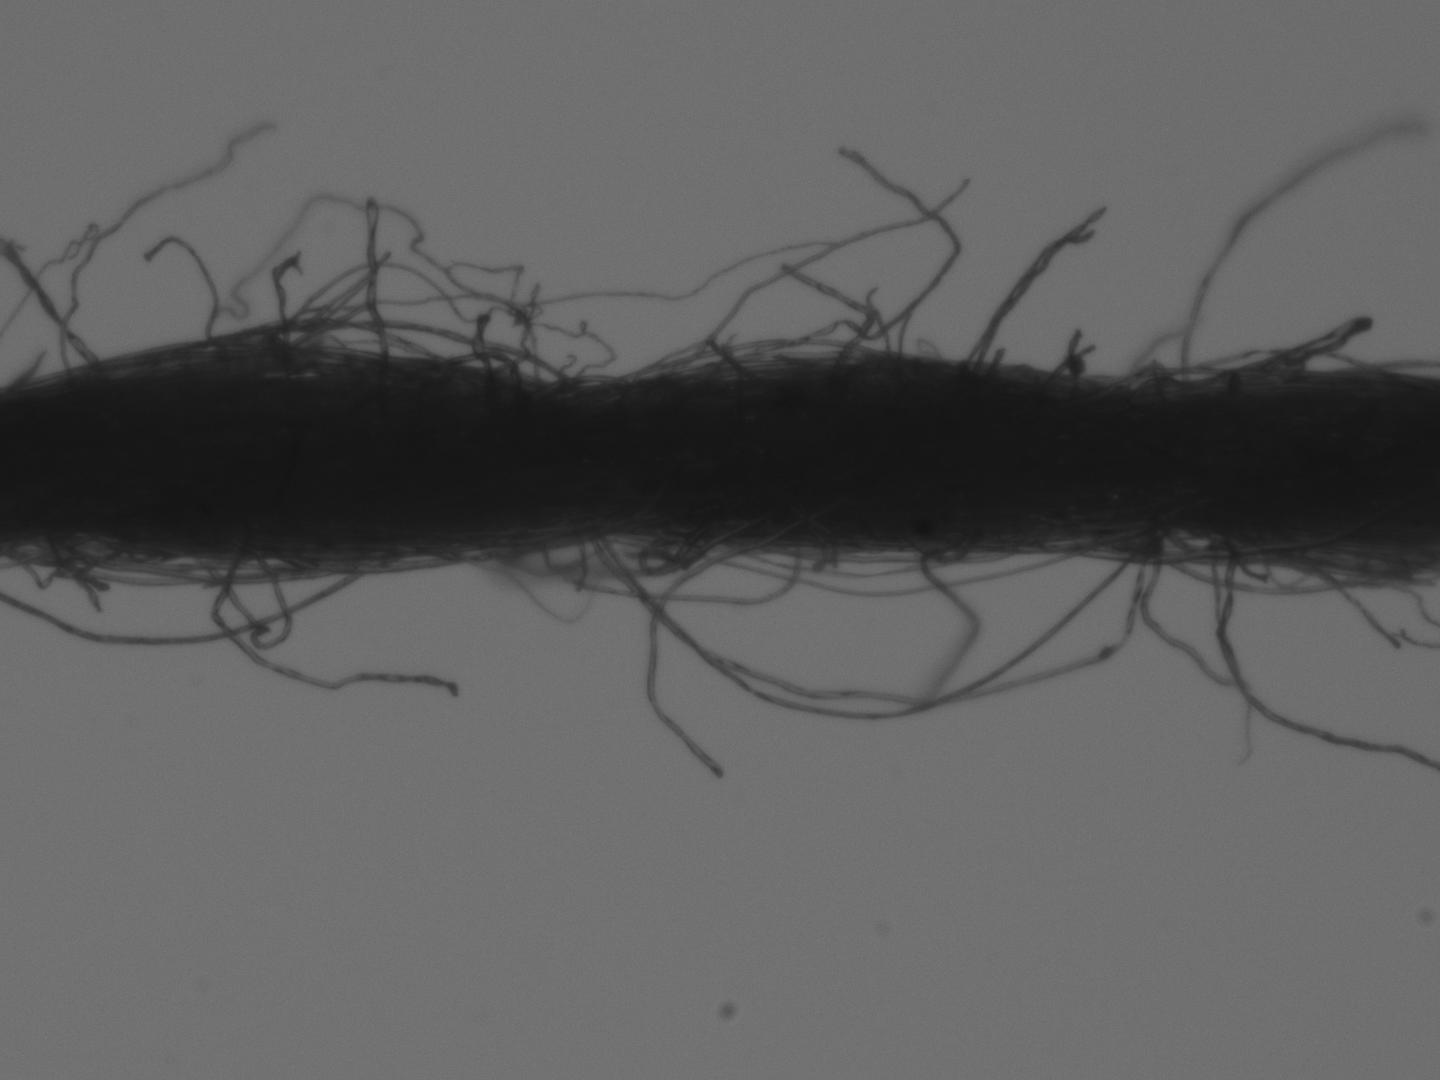loop_fiber: (206, 186, 621, 405), (1079, 306, 1383, 419), (1155, 521, 1424, 598), (173, 537, 296, 656), (272, 537, 466, 581), (3, 532, 127, 593), (630, 515, 744, 579), (476, 538, 622, 582), (1013, 524, 1158, 555), (892, 535, 980, 565)
protruding_fiber: (638, 507, 821, 784)
